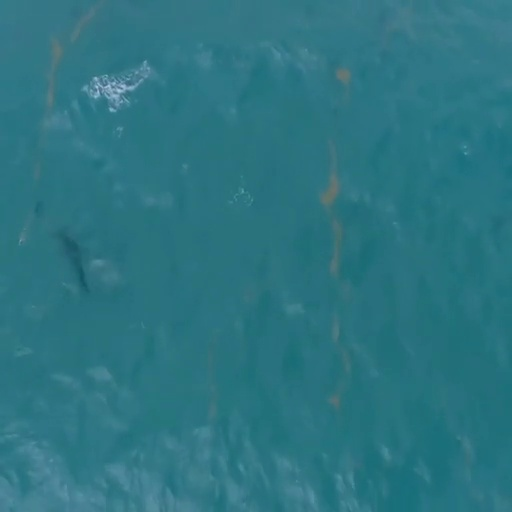shark: (46, 224, 95, 297)
